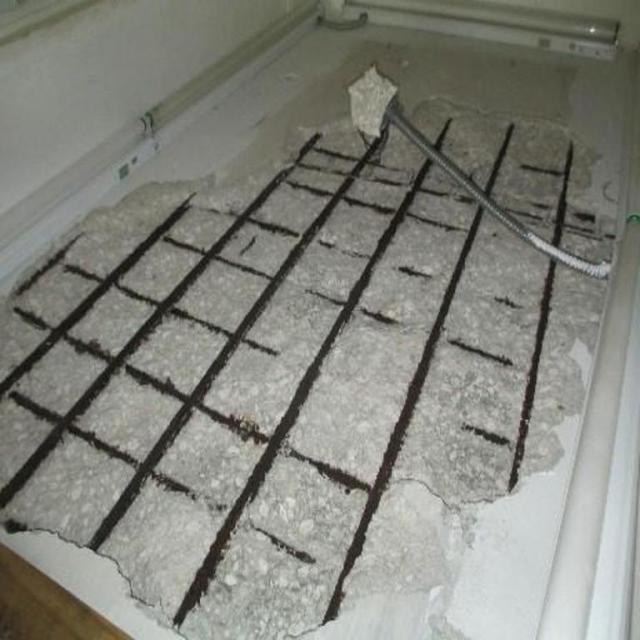spalling: (0, 60, 622, 639)
